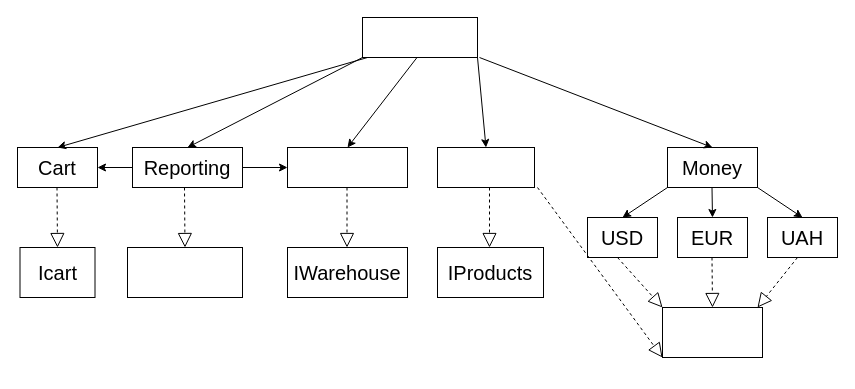
Image size: 855x389. Some labels were removed from this diagram. The centre of each missing label's shape, as x and y in pixels:
"IMoney" belongs at (x=712, y=332).
"IReporting" belongs at (x=184, y=272).
"Products" belongs at (x=485, y=167).
"Programm" belongs at (x=420, y=37).
"Warehouse" belongs at (x=347, y=167).
